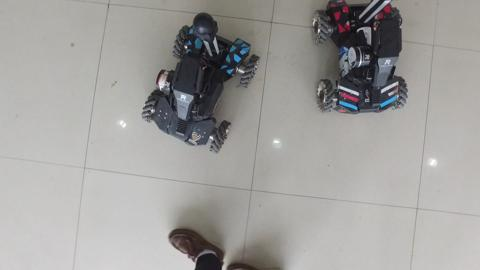chariot: (143, 11, 263, 164), (306, 1, 411, 123)
